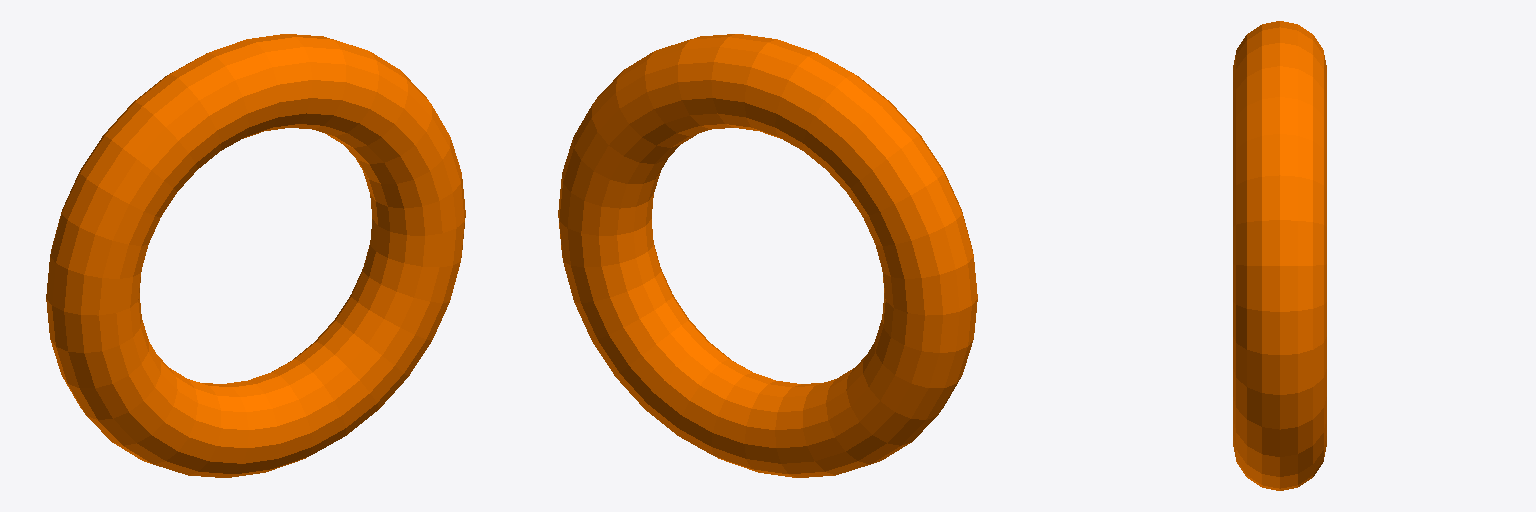
File: torlow.obj
3 views of the same model, side by side, from view 1: azimuth 30°, elevation 25°; view 2: azimuth 150°, elevation 25°; view 3: azimuth 270°, elevation 25° (orthographic).
Visible parts, largest first — view 1: Torus.001; view 2: Torus.001; view 3: Torus.001.
Boxes of the visible parts, x1,y1,x2,y2 form: Torus.001: [46, 34, 465, 477]; Torus.001: [558, 34, 977, 477]; Torus.001: [1233, 21, 1326, 490].
Size of the model in its own units: 1.25 by 1.25 by 0.25.